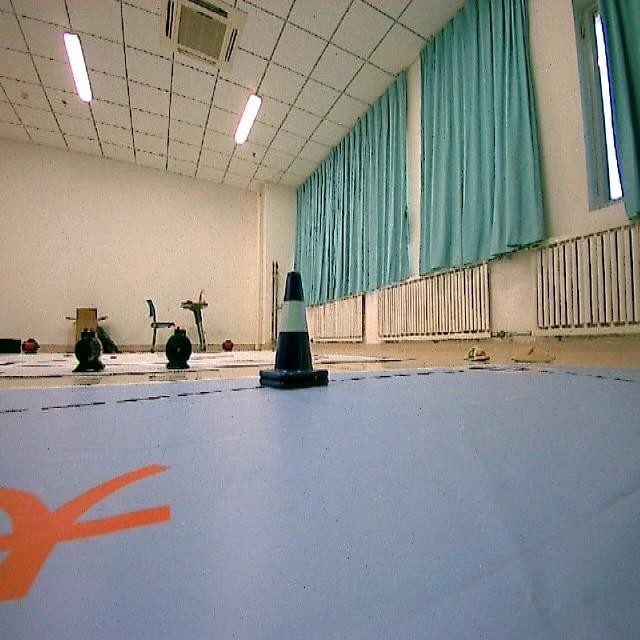obstacle: (263, 273, 330, 400)
